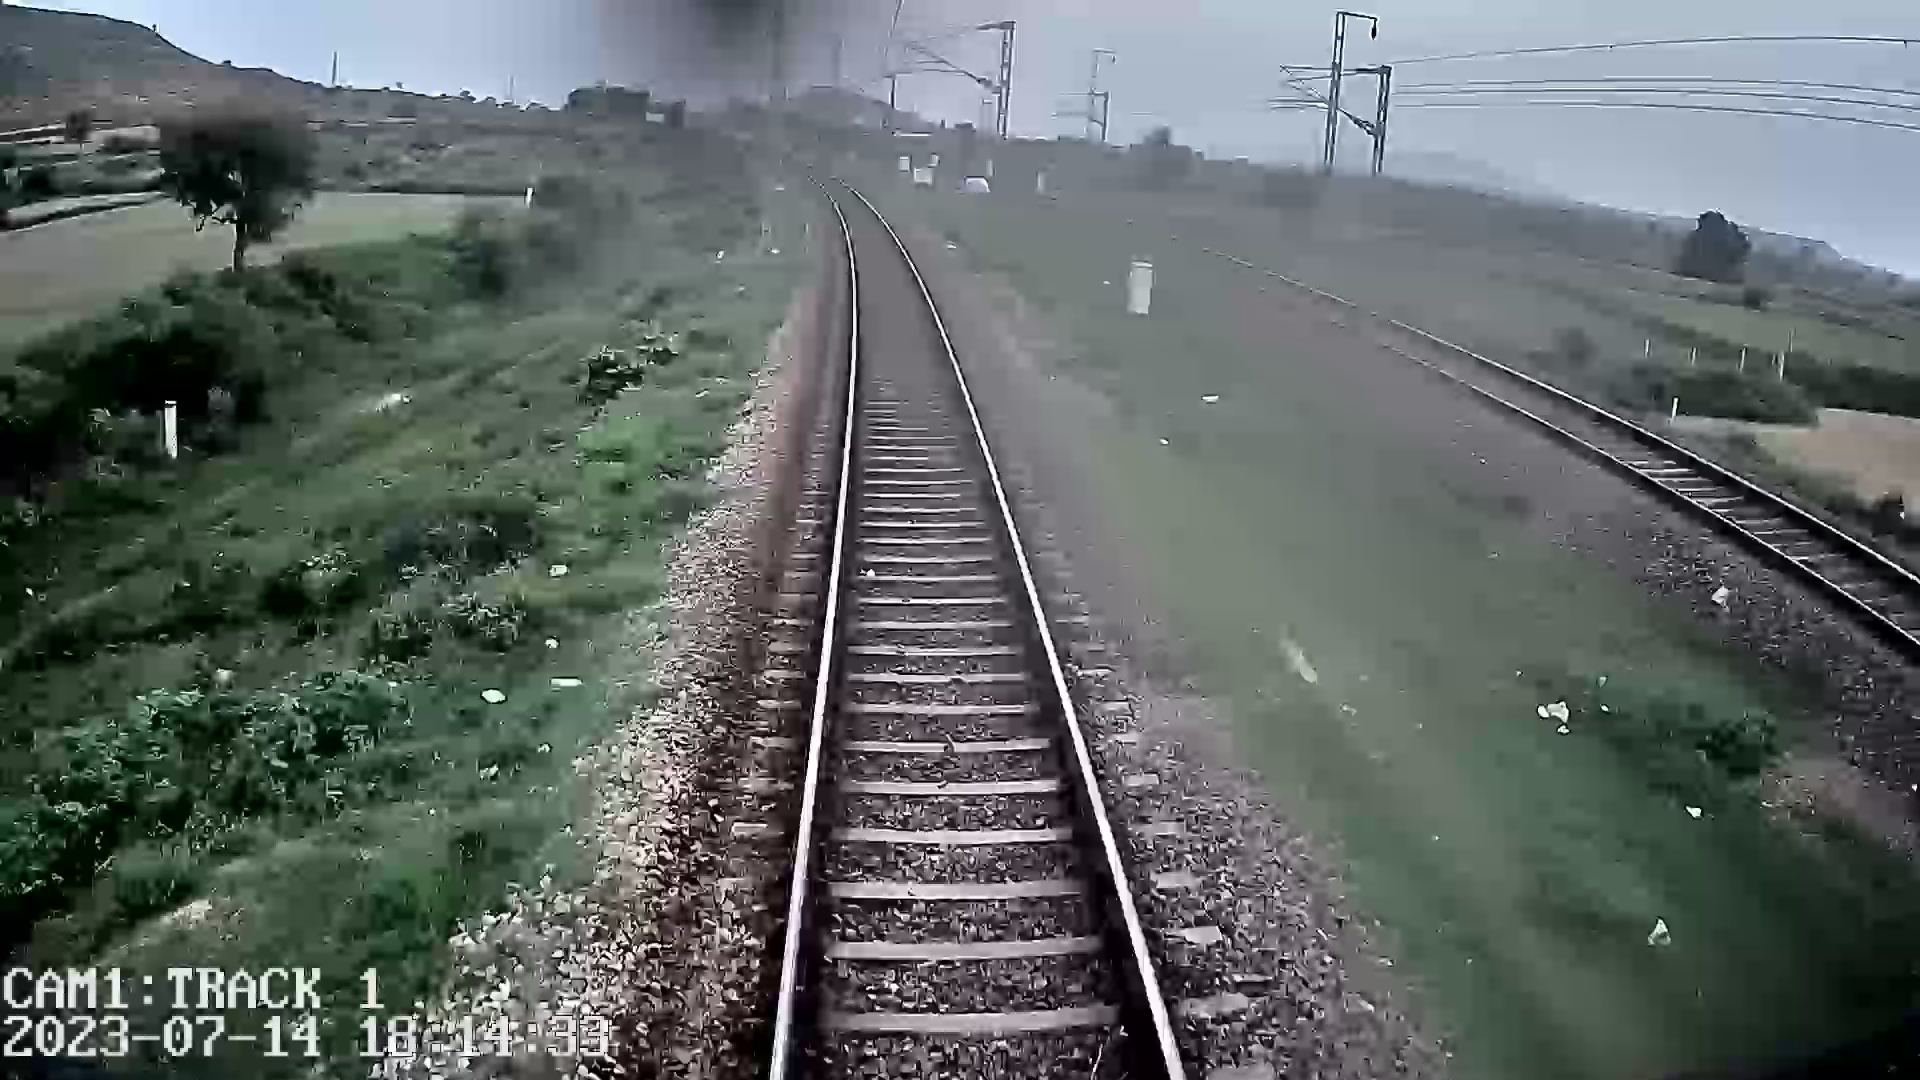track1: (779, 219, 1176, 1060)
track2: (1259, 284, 1913, 634)
